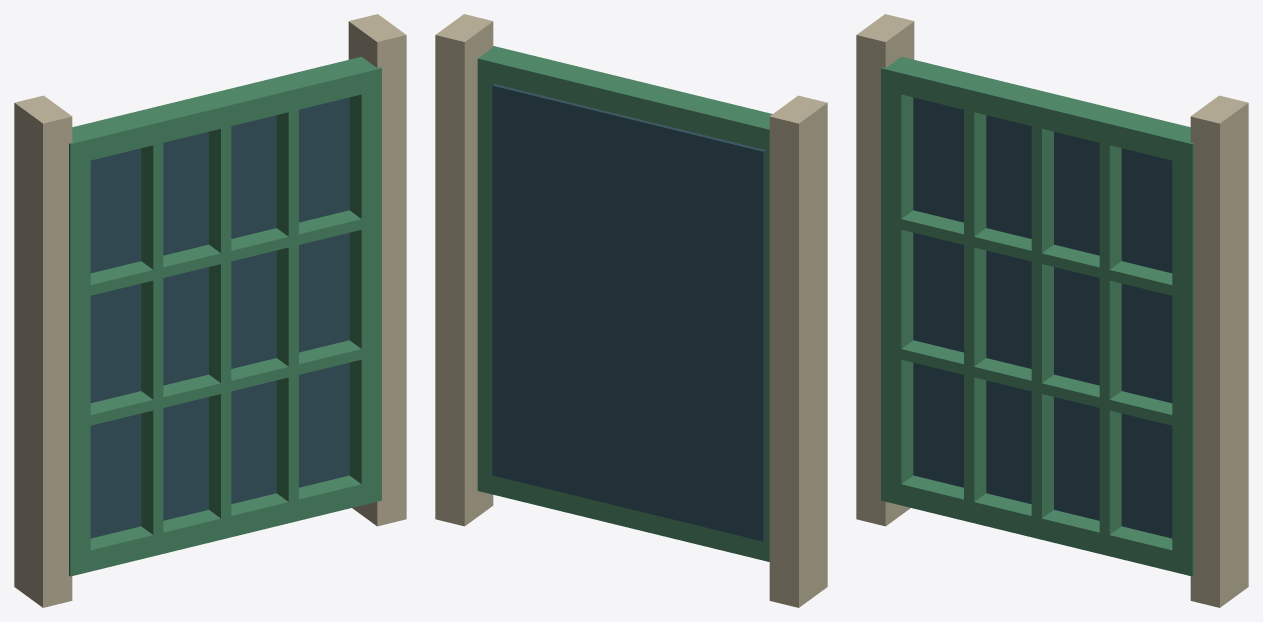
File: window_35.glb
3 views of the same model, side by side, from view 1: azimuth 30°, elevation 25°; view 2: azimuth 150°, elevation 25°; view 3: azimuth 330°, elevation 25° (orthographic).
Visible parts, largest first — view 1: window_35; view 2: window_35; view 3: window_35.
Boxes of the visible parts, x1,y1,x2,y2 form: window_35: (14, 14, 406, 607); window_35: (435, 14, 827, 607); window_35: (856, 14, 1248, 607).
Bounding box in the file's own units: 1.61 × 2.05 × 0.23.
